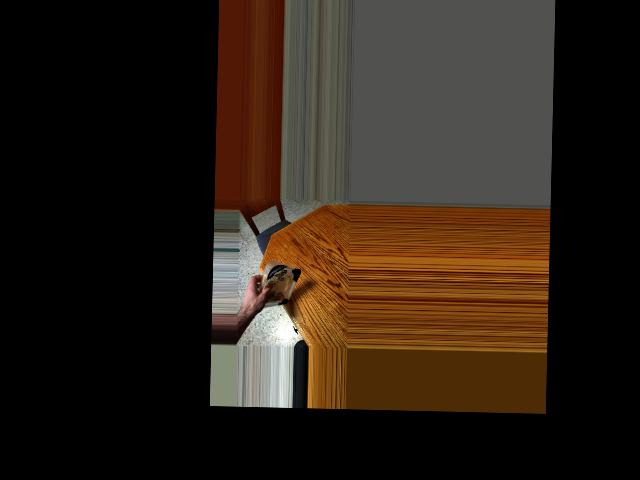cheese: (261, 263, 297, 313)
